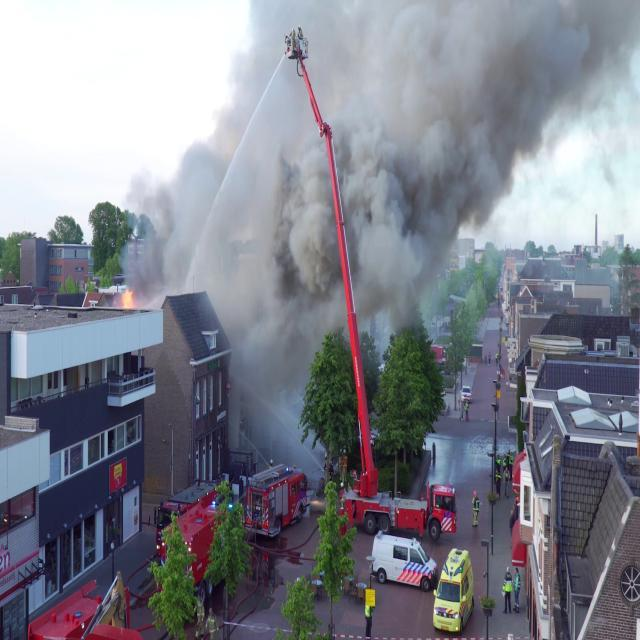Fire: (120, 280, 136, 316)
Smoke: (146, 0, 640, 403)
